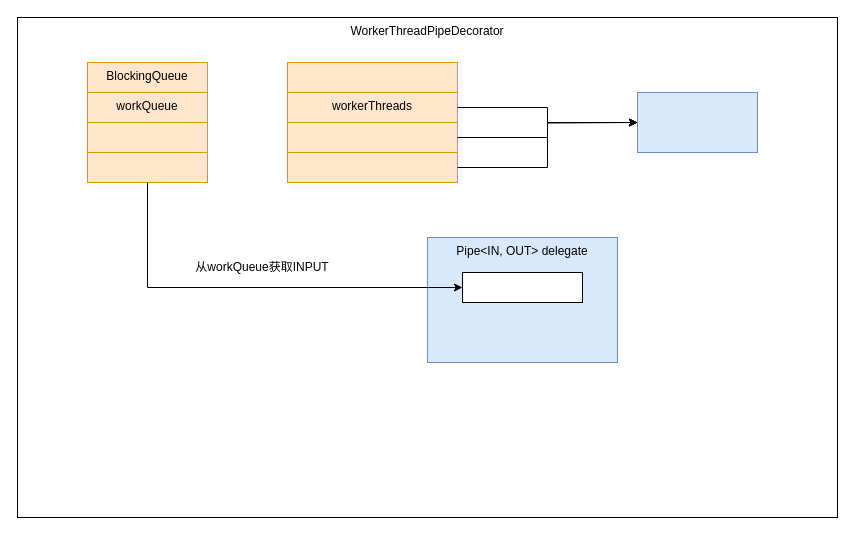
Some shapes in this 855 by 535 pixel diagram are drawn without their labels. The shapes that lost their labels are listed below. From the top down, each one's box as (x1, y1, x2, y2) in pixels, then its label:
(286, 62, 458, 92): Set<AbstractTerminationThread>
(636, 92, 758, 152): TerminationToken
(462, 272, 582, 302): process(INPUT)
